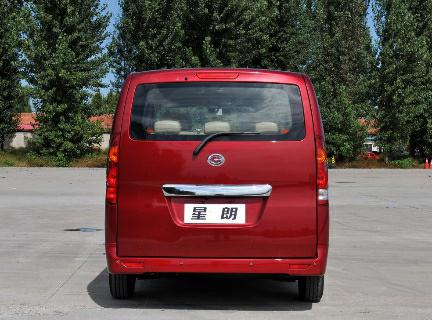广汽吉奥-星朗: (102, 58, 338, 302)
